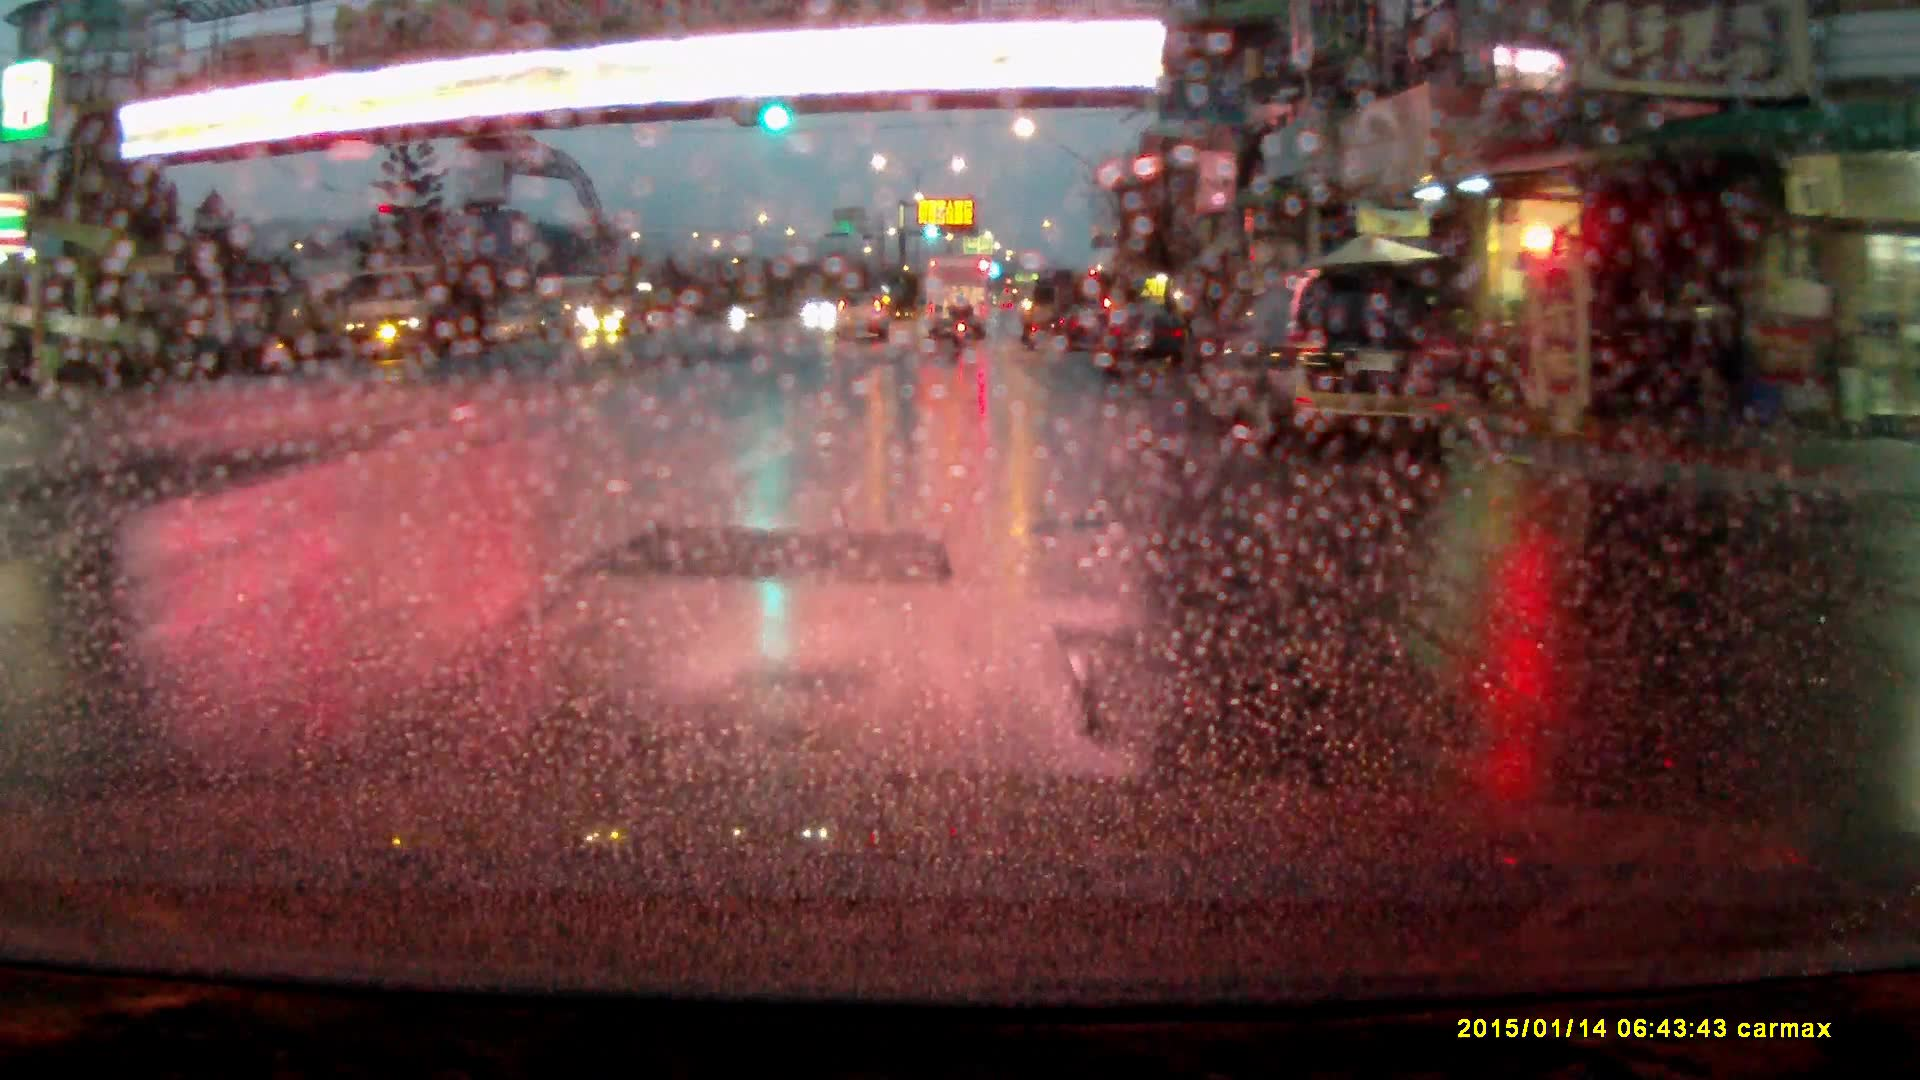rider: (949, 293, 974, 353)
vehicle: (1208, 272, 1459, 458), (1595, 292, 1731, 424), (336, 267, 490, 369), (1098, 308, 1189, 376), (924, 263, 992, 341), (579, 286, 666, 345), (835, 290, 893, 339), (1064, 307, 1116, 357)
